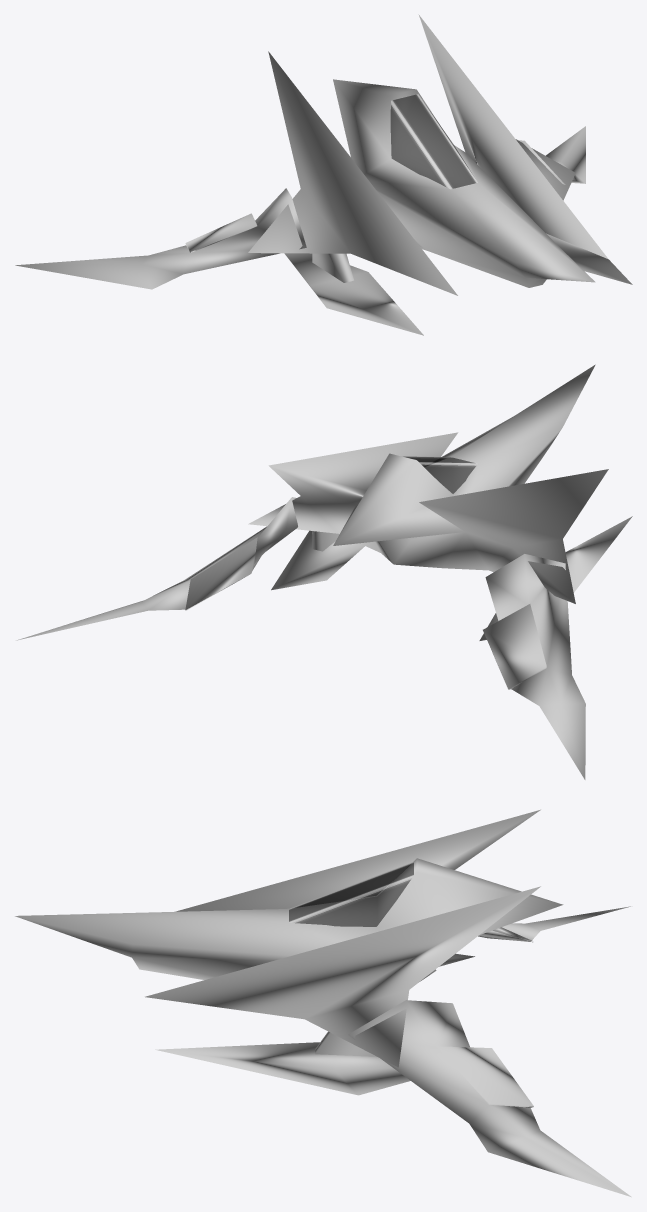
File: arwingNew67.obj
3 renders of one model, top to bottom at view 1: azimuth 30°, elevation 25°; view 2: azimuth 150°, elevation 25°; view 3: azimuth 270°, elevation 25°, orthographic. The views are drawn at different scales.
Visible parts, largest first — view 1: Arwing.002; view 2: Arwing.002; view 3: Arwing.002.
Boxes of the visible parts, box(x1,y1,x2,y2) form: Arwing.002: box(15, 14, 632, 335); Arwing.002: box(16, 364, 632, 779); Arwing.002: box(15, 809, 631, 1197).
Bounding box in the file's own units: 6.58 × 2.15 × 5.91.
